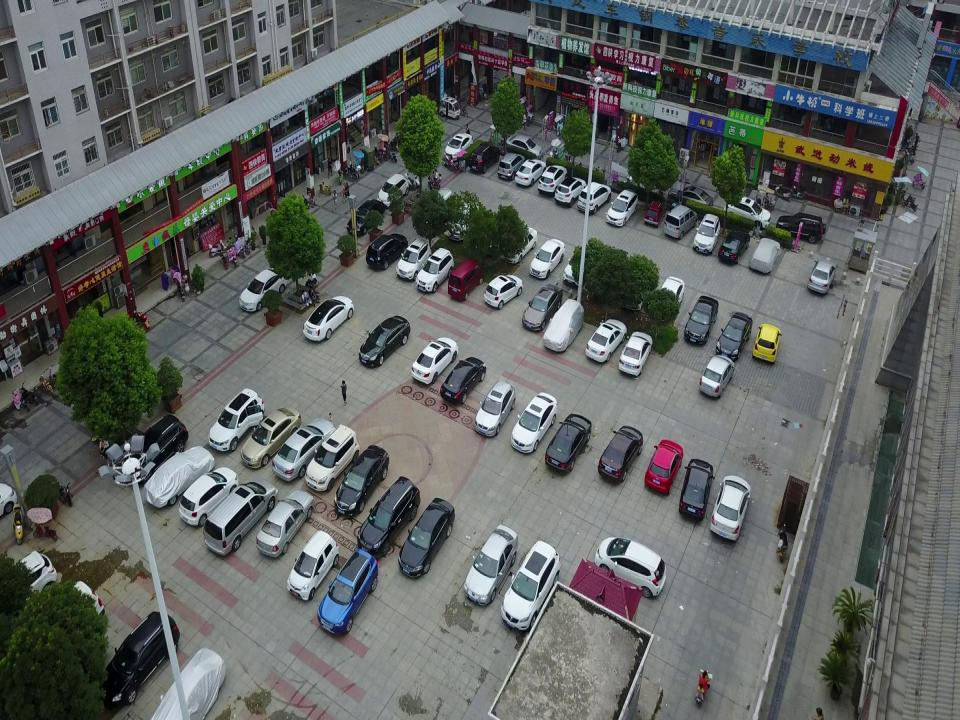car: (17, 581, 104, 680), (94, 611, 180, 704), (501, 540, 561, 631), (151, 646, 224, 720), (117, 413, 188, 488), (317, 548, 378, 635), (358, 476, 420, 558), (144, 445, 216, 509), (398, 498, 455, 578), (594, 537, 666, 598), (464, 525, 518, 605), (272, 418, 336, 481), (334, 445, 390, 516), (256, 489, 314, 557), (240, 406, 302, 469), (2, 550, 56, 622), (304, 424, 360, 491), (287, 530, 339, 600), (179, 467, 239, 525), (209, 389, 265, 450), (510, 392, 558, 453), (709, 475, 751, 541), (545, 413, 591, 472), (598, 425, 644, 483), (359, 316, 410, 366), (474, 380, 516, 436), (302, 296, 354, 341), (678, 459, 715, 520), (412, 338, 458, 386), (644, 439, 684, 494), (543, 299, 584, 352), (441, 356, 487, 402), (240, 268, 288, 312), (522, 284, 562, 331), (715, 312, 753, 361), (585, 318, 627, 362), (563, 246, 605, 288), (683, 295, 719, 344), (416, 248, 454, 293), (775, 213, 826, 244), (366, 233, 408, 270), (724, 196, 771, 229), (619, 331, 653, 376), (699, 355, 735, 397), (346, 199, 386, 236), (446, 200, 482, 241), (529, 239, 565, 279), (396, 239, 432, 279), (483, 274, 523, 309), (501, 226, 538, 263), (752, 324, 782, 364), (654, 276, 684, 315), (606, 190, 638, 226), (717, 229, 750, 263), (693, 214, 721, 254), (668, 186, 714, 210), (578, 182, 612, 214), (807, 259, 837, 294), (750, 239, 780, 273), (378, 174, 409, 206), (468, 141, 499, 173), (505, 134, 543, 159), (538, 162, 567, 194), (554, 177, 586, 206), (514, 159, 546, 186), (443, 132, 473, 158), (497, 153, 525, 180), (644, 199, 666, 227)
van: (204, 479, 278, 555), (448, 260, 483, 300), (663, 204, 697, 239), (426, 187, 452, 223)
